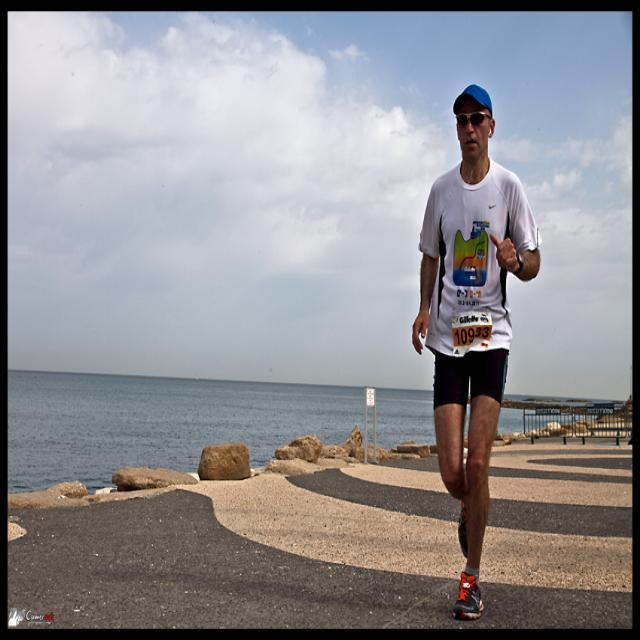Bib: (454, 326, 496, 344)
